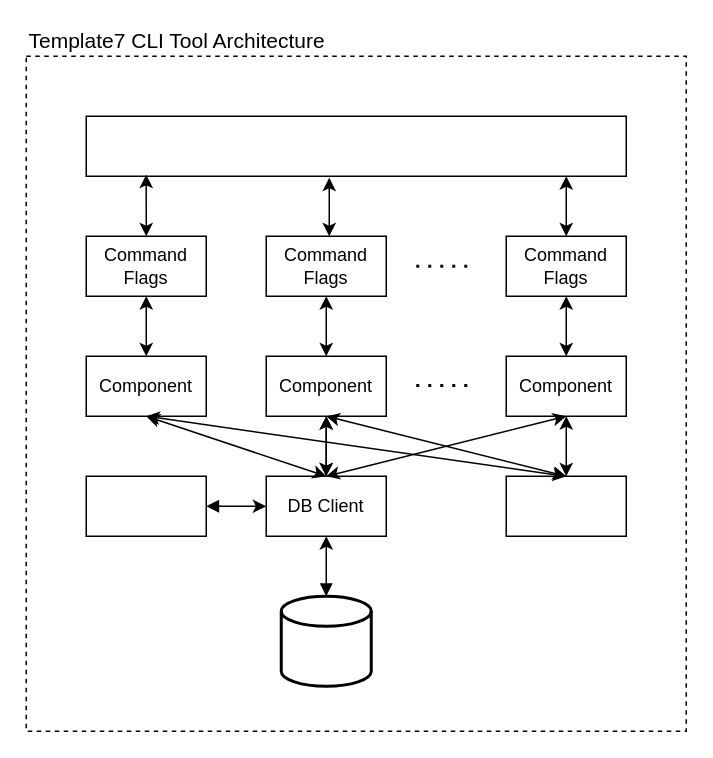
Some shapes in this 713 by 758 pixel diagram are drawn without their labels. The box of each missing label's shape, as (x1, y1, x2, y2) in pixels:
App: (85, 115, 626, 176)
Backend Client: (505, 475, 626, 536)
DB: (279, 594, 372, 687)
Document / Struct: (85, 475, 206, 536)
